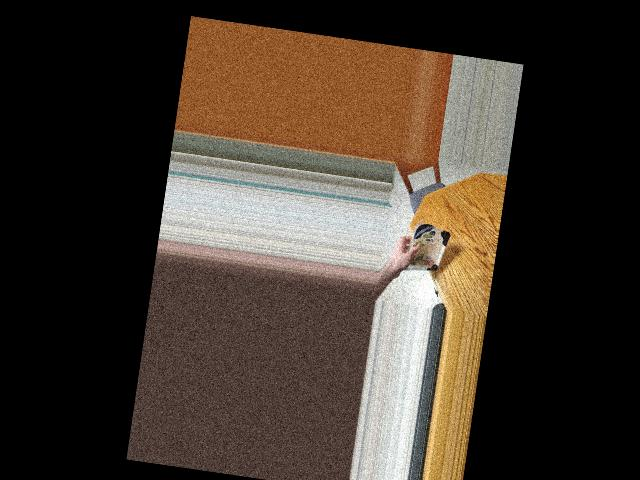cheese: (401, 219, 448, 283)
